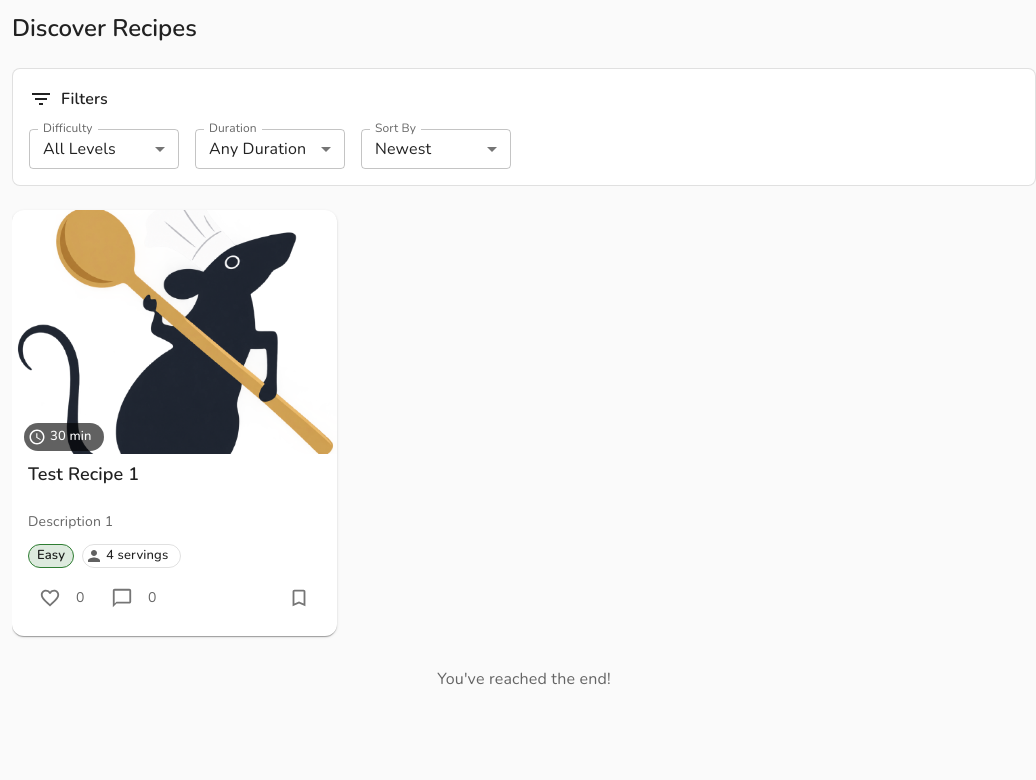
RecipeFeed Component › should show clear filters button when filters are active
Check: the link "Test Recipe 1" is shown, box x1=28 y1=462 x2=139 y2=486
Press the mouse on the dropdown labelled "All Levels" at (79, 148), box x1=43 y1=138 x2=116 y2=160
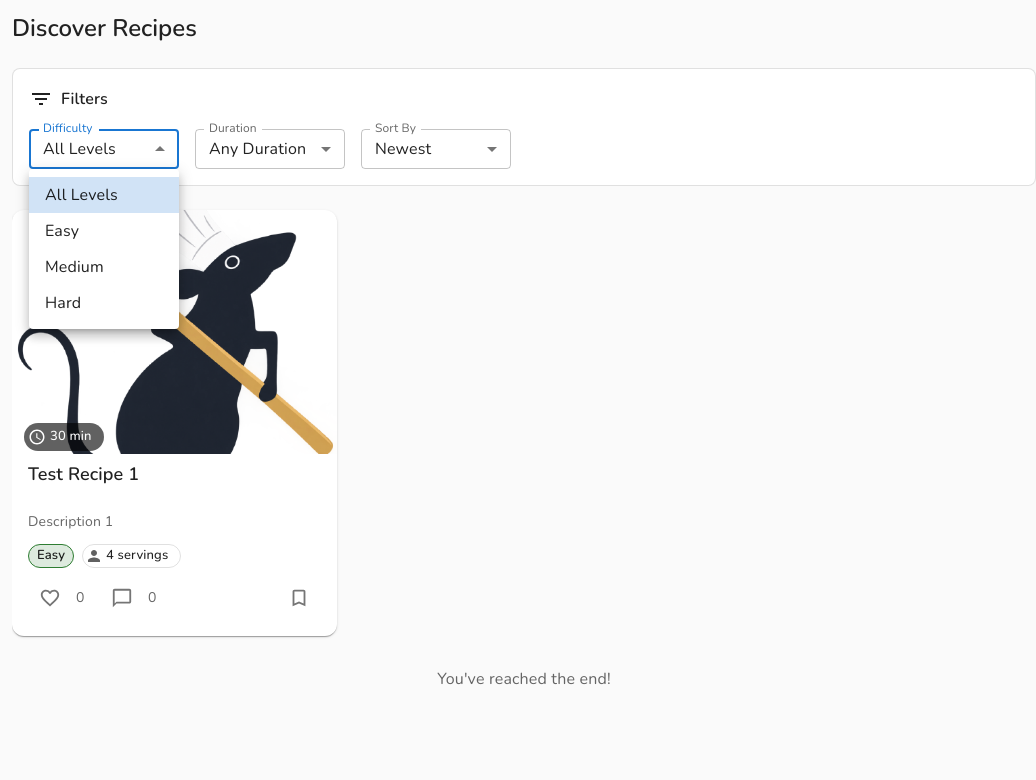
Click the option "Easy" at (62, 231), box x1=45 y1=220 x2=79 y2=242
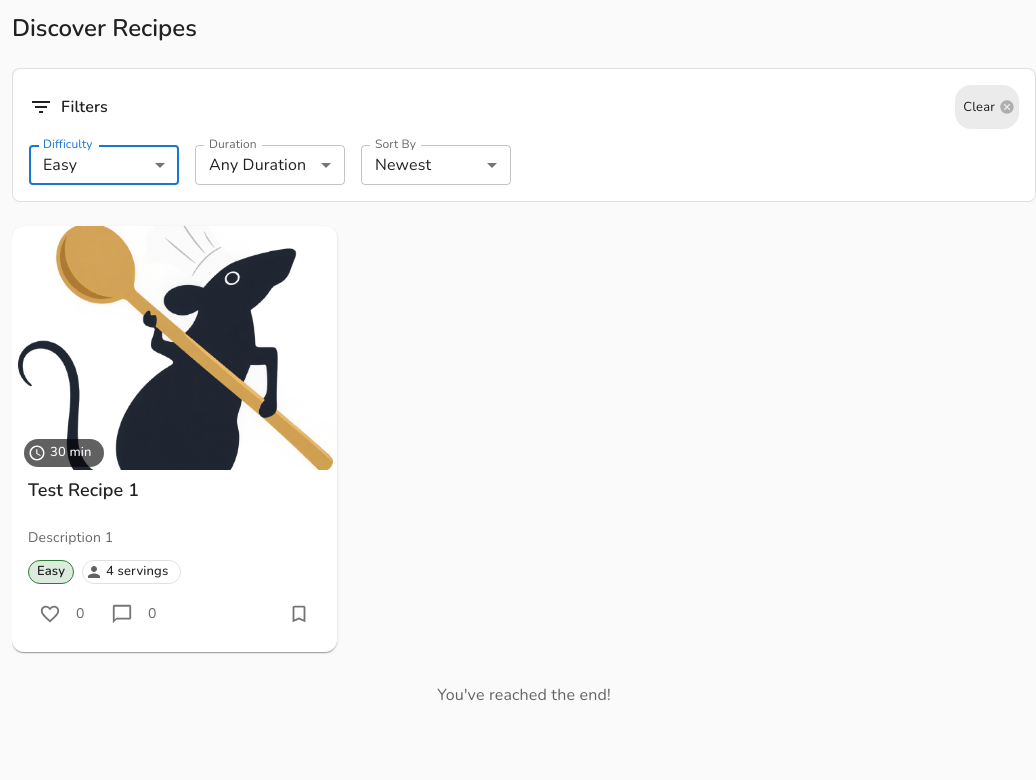
Check: the text "Clear" is shown, box x1=963 y1=98 x2=995 y2=116
